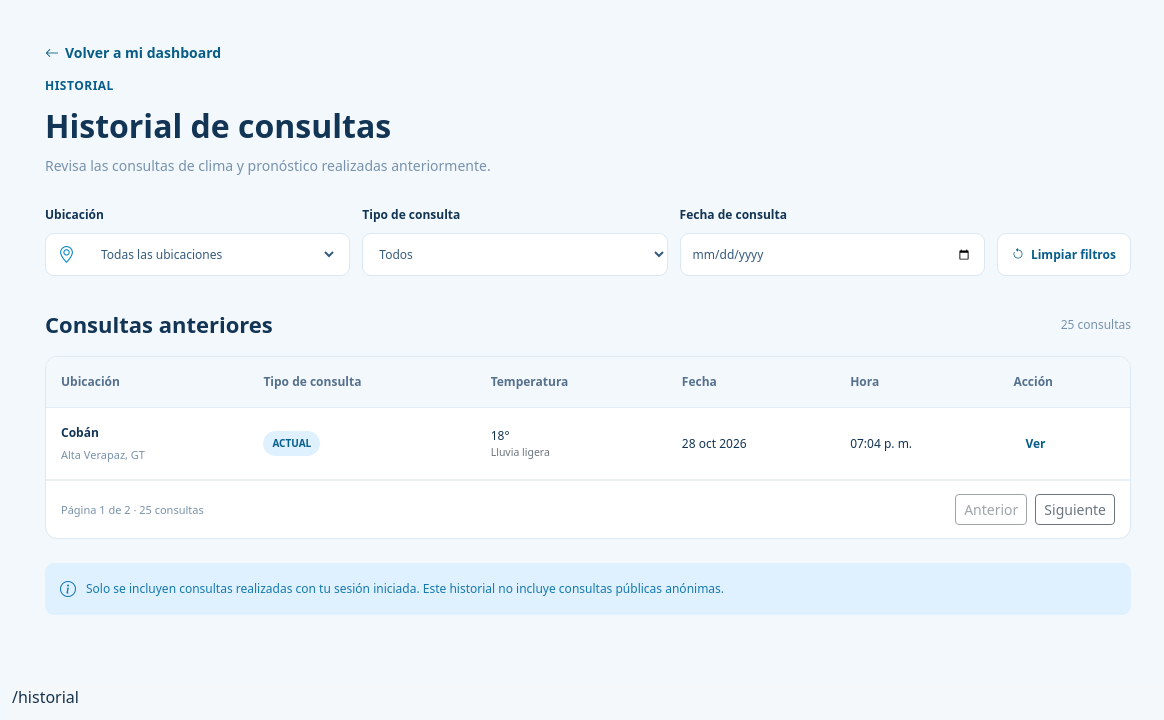
Test case: M08 – historial › pagina con Siguiente
The width and height of the screenshot is (1164, 720).
Click the button "Siguiente" at (1075, 510), box [1035,494,1115,525]
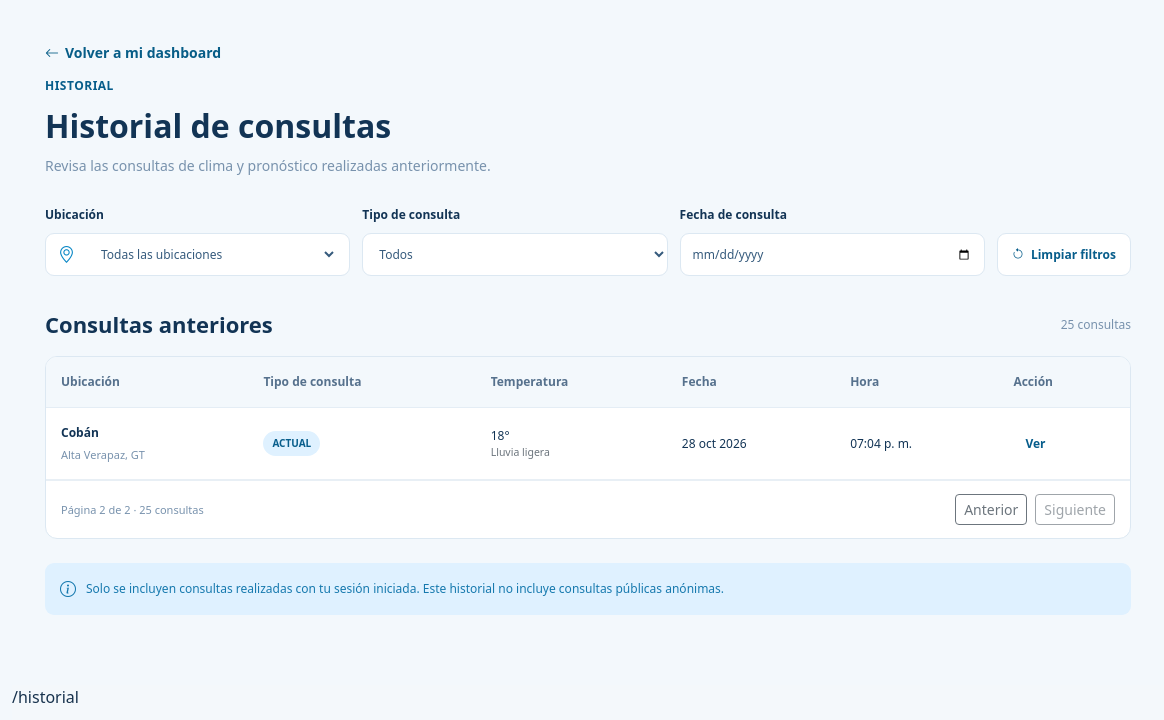
Now the text "Página 2 de 2 · 25 consultas" is shown, box [61,502,204,518]
